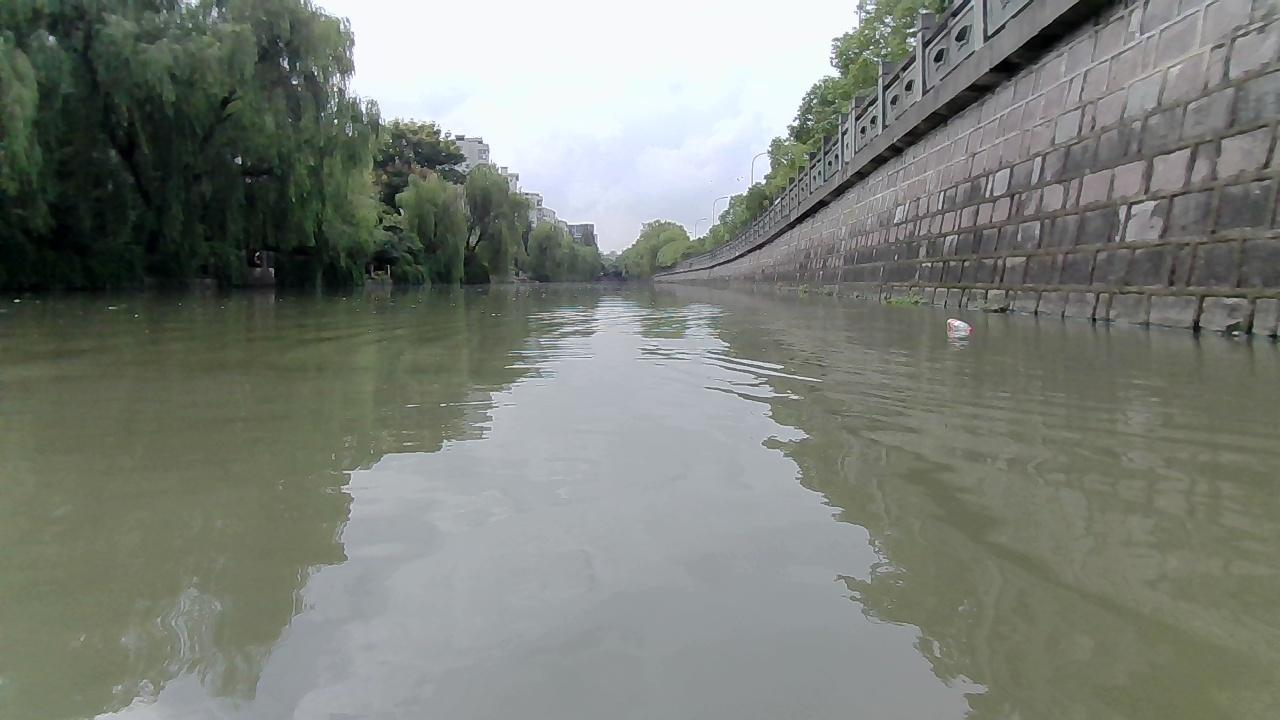bottle: (946, 317, 973, 332)
